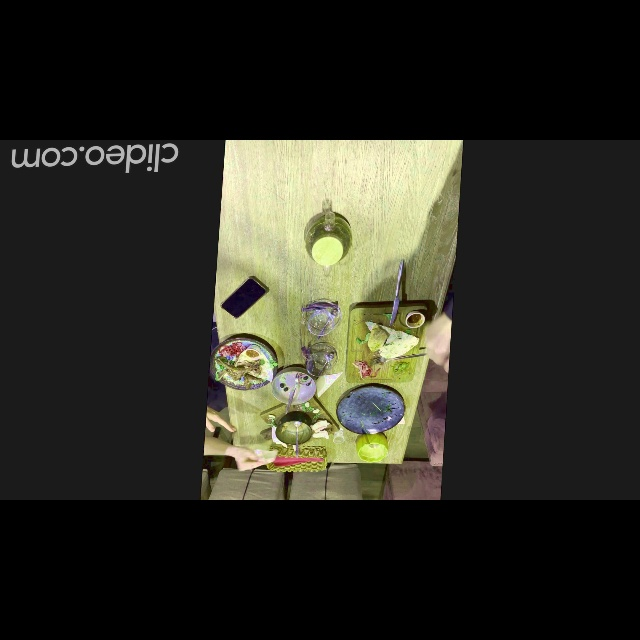закуска(пустая тарелка): (344, 304, 428, 384)
мясо(пустая тарелка): (207, 337, 280, 390)
салат цезарь: (270, 366, 318, 405)
салат(пустая тарелка): (335, 385, 407, 435)
сырный суп(пустая тарелка): (355, 432, 390, 463)
